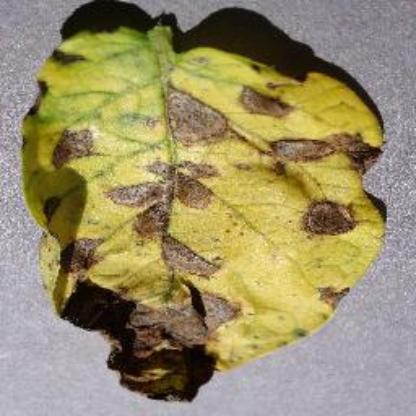Early-Blight: (20, 16, 392, 402)
